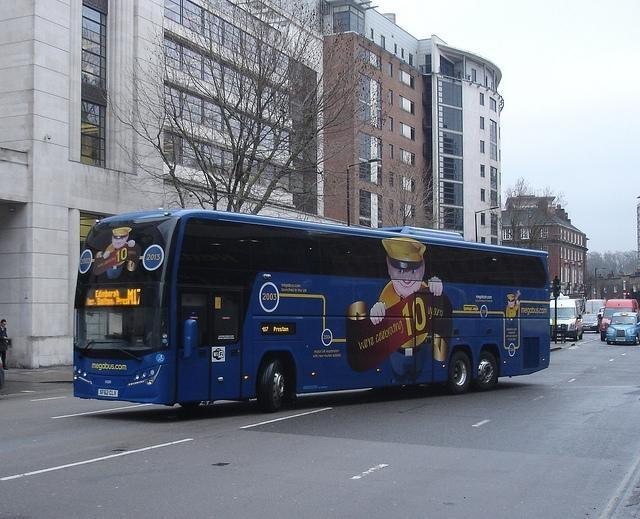bus: (71, 212, 552, 413)
car: (606, 310, 640, 346), (582, 314, 603, 333), (598, 306, 606, 318)
truck: (598, 298, 640, 342), (550, 298, 584, 341)
